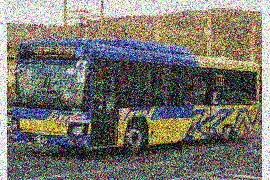bus: (15, 36, 258, 156)
